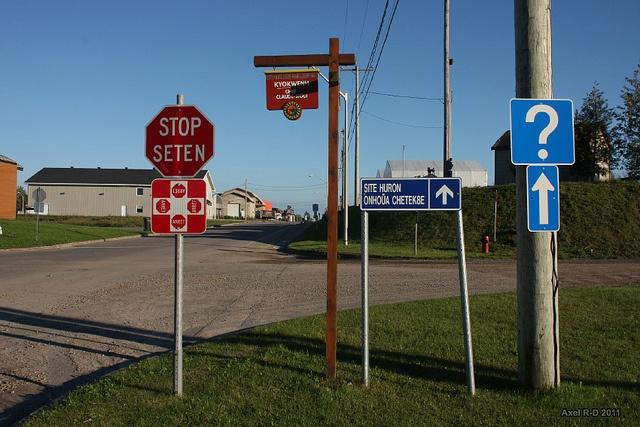stop sign: (146, 104, 361, 282)
